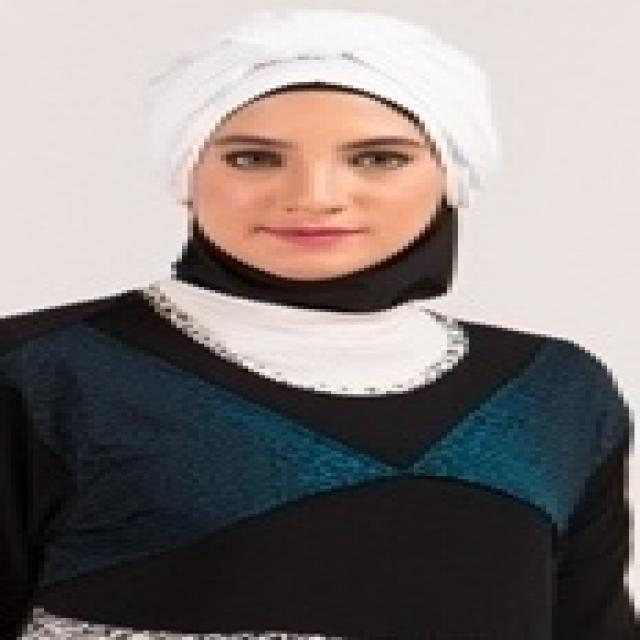head: (141, 25, 487, 289)
